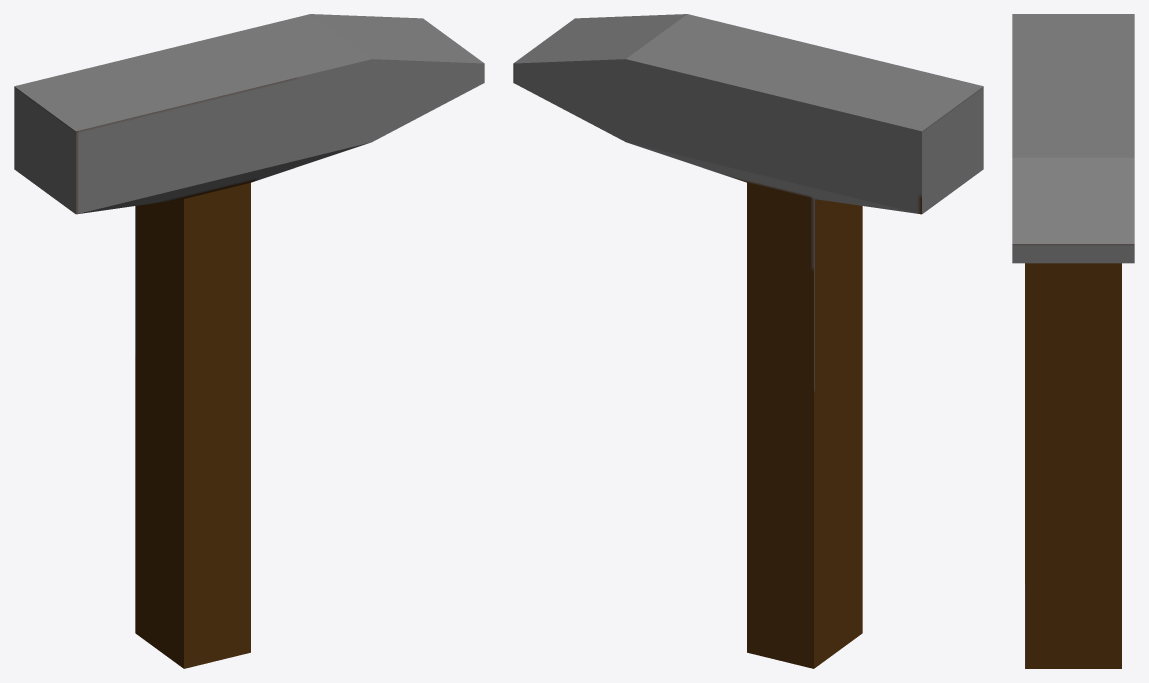
File: Hammer.obj
3 views of the same model, side by side, from view 1: azimuth 30°, elevation 25°; view 2: azimuth 150°, elevation 25°; view 3: azimuth 270°, elevation 25° (orthographic).
Parts seen in each view (by area): view 1: Cube.001; view 2: Cube.001; view 3: Cube.001.
Part boxes in pixels (x1,y1,x2,y2): Cube.001: [14, 14, 484, 668]; Cube.001: [513, 14, 983, 668]; Cube.001: [1012, 14, 1134, 668].
Bounding box in the file's own units: 0.9002 × 1.2 × 0.2352.
